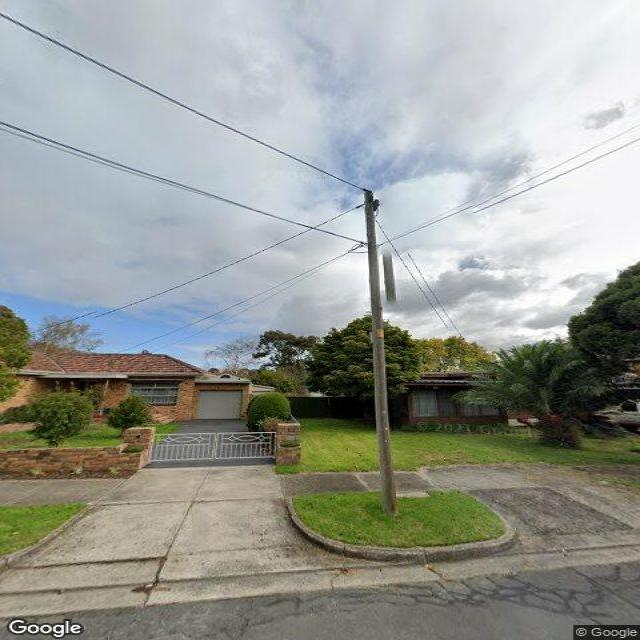timber-pole: (364, 189, 398, 517)
